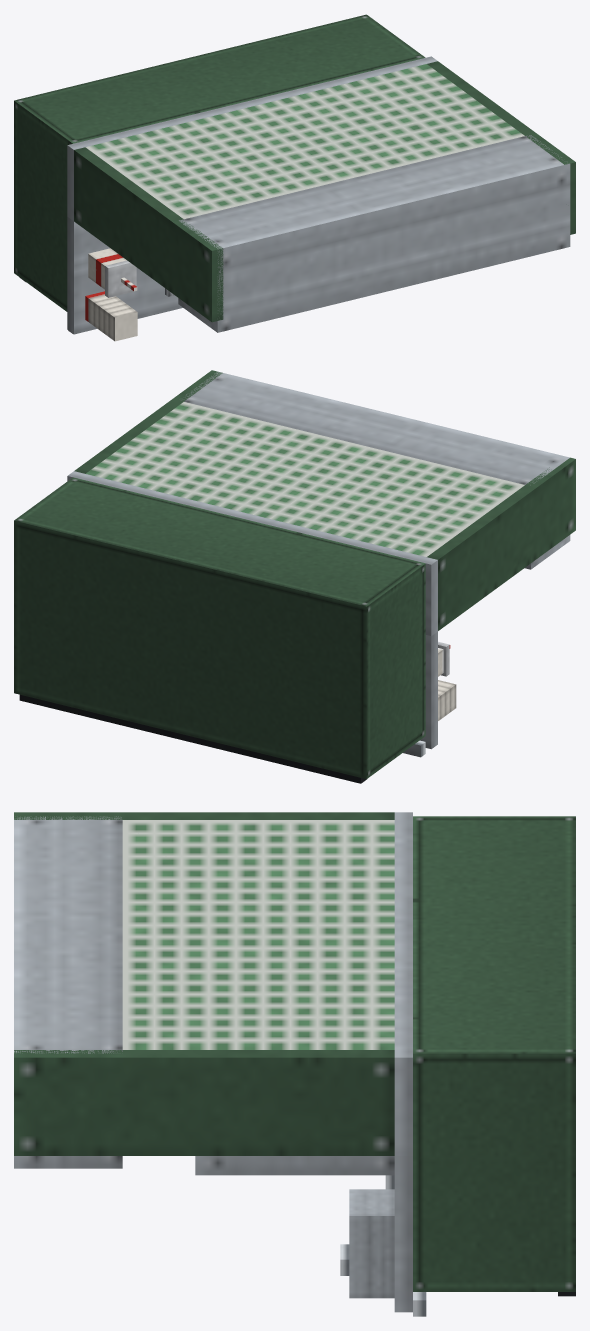
File: drink_mixer_mk4.obj
3 renders of one model, top to bottom at view 1: azimuth 30°, elevation 25°; view 2: azimuth 150°, elevation 25°; view 3: azimuth 270°, elevation 25°, orthographic. The views are drawn at different scales.
Visible parts, largest first — view 1: drink_mixer_mk4_Hood, drink_mixer_mk4_Back_wall, drink_mixer_mk4_Base, drink_mixer_mk4_Side_R, drink_mixer_mk4_Counter_top, drink_mixer_mk4_Back_bench, drink_mixer_mk4_Side_L, drink_mixer_mk4_Cup_stack, drink_mixer_mk4_Cup_done_lid, drink_mixer_mk4_Cup_done; view 2: drink_mixer_mk4_Base, drink_mixer_mk4_Back_wall, drink_mixer_mk4_Hood, drink_mixer_mk4_Side_R, drink_mixer_mk4_Back_bench, drink_mixer_mk4_Kick_plate, drink_mixer_mk4_Side_L, drink_mixer_mk4_Counter_top, drink_mixer_mk4_Cup_stack; view 3: drink_mixer_mk4_Base, drink_mixer_mk4_Back_wall, drink_mixer_mk4_Side_L, drink_mixer_mk4_Hood, drink_mixer_mk4_Back_bench, drink_mixer_mk4_Ice_bin, drink_mixer_mk4_Fountain, drink_mixer_mk4_Side_R, drink_mixer_mk4_Counter_top.
Boxes of the visible parts, x1,y1,x2,y2 form: drink_mixer_mk4_Hood: (178, 135, 570, 332); drink_mixer_mk4_Back_wall: (85, 64, 524, 219); drink_mixer_mk4_Base: (14, 14, 425, 311); drink_mixer_mk4_Side_R: (74, 147, 223, 322); drink_mixer_mk4_Counter_top: (67, 217, 182, 334); drink_mixer_mk4_Back_bench: (67, 56, 437, 220); drink_mixer_mk4_Side_L: (427, 61, 575, 234); drink_mixer_mk4_Cup_stack: (85, 291, 137, 341); drink_mixer_mk4_Cup_done_lid: (105, 260, 136, 297); drink_mixer_mk4_Cup_done: (88, 248, 126, 289); drink_mixer_mk4_Base: (14, 477, 425, 779); drink_mixer_mk4_Back_wall: (85, 402, 524, 556); drink_mixer_mk4_Hood: (181, 371, 570, 569); drink_mixer_mk4_Side_R: (427, 457, 575, 630); drink_mixer_mk4_Back_bench: (67, 471, 437, 635); drink_mixer_mk4_Kick_plate: (19, 694, 366, 783); drink_mixer_mk4_Side_L: (74, 370, 222, 473); drink_mixer_mk4_Counter_top: (420, 631, 437, 749); drink_mixer_mk4_Cup_stack: (438, 680, 456, 720); drink_mixer_mk4_Base: (413, 816, 575, 1291); drink_mixer_mk4_Back_wall: (122, 820, 394, 1049); drink_mixer_mk4_Side_L: (14, 1050, 394, 1155); drink_mixer_mk4_Hood: (14, 816, 122, 1168); drink_mixer_mk4_Back_bench: (394, 812, 412, 1155); drink_mixer_mk4_Ice_bin: (349, 1189, 394, 1298); drink_mixer_mk4_Fountain: (195, 1156, 394, 1175); drink_mixer_mk4_Side_R: (14, 812, 394, 819); drink_mixer_mk4_Counter_top: (394, 1156, 412, 1312).
Bounding box in the file's own units: 2 × 1 × 1.94.
